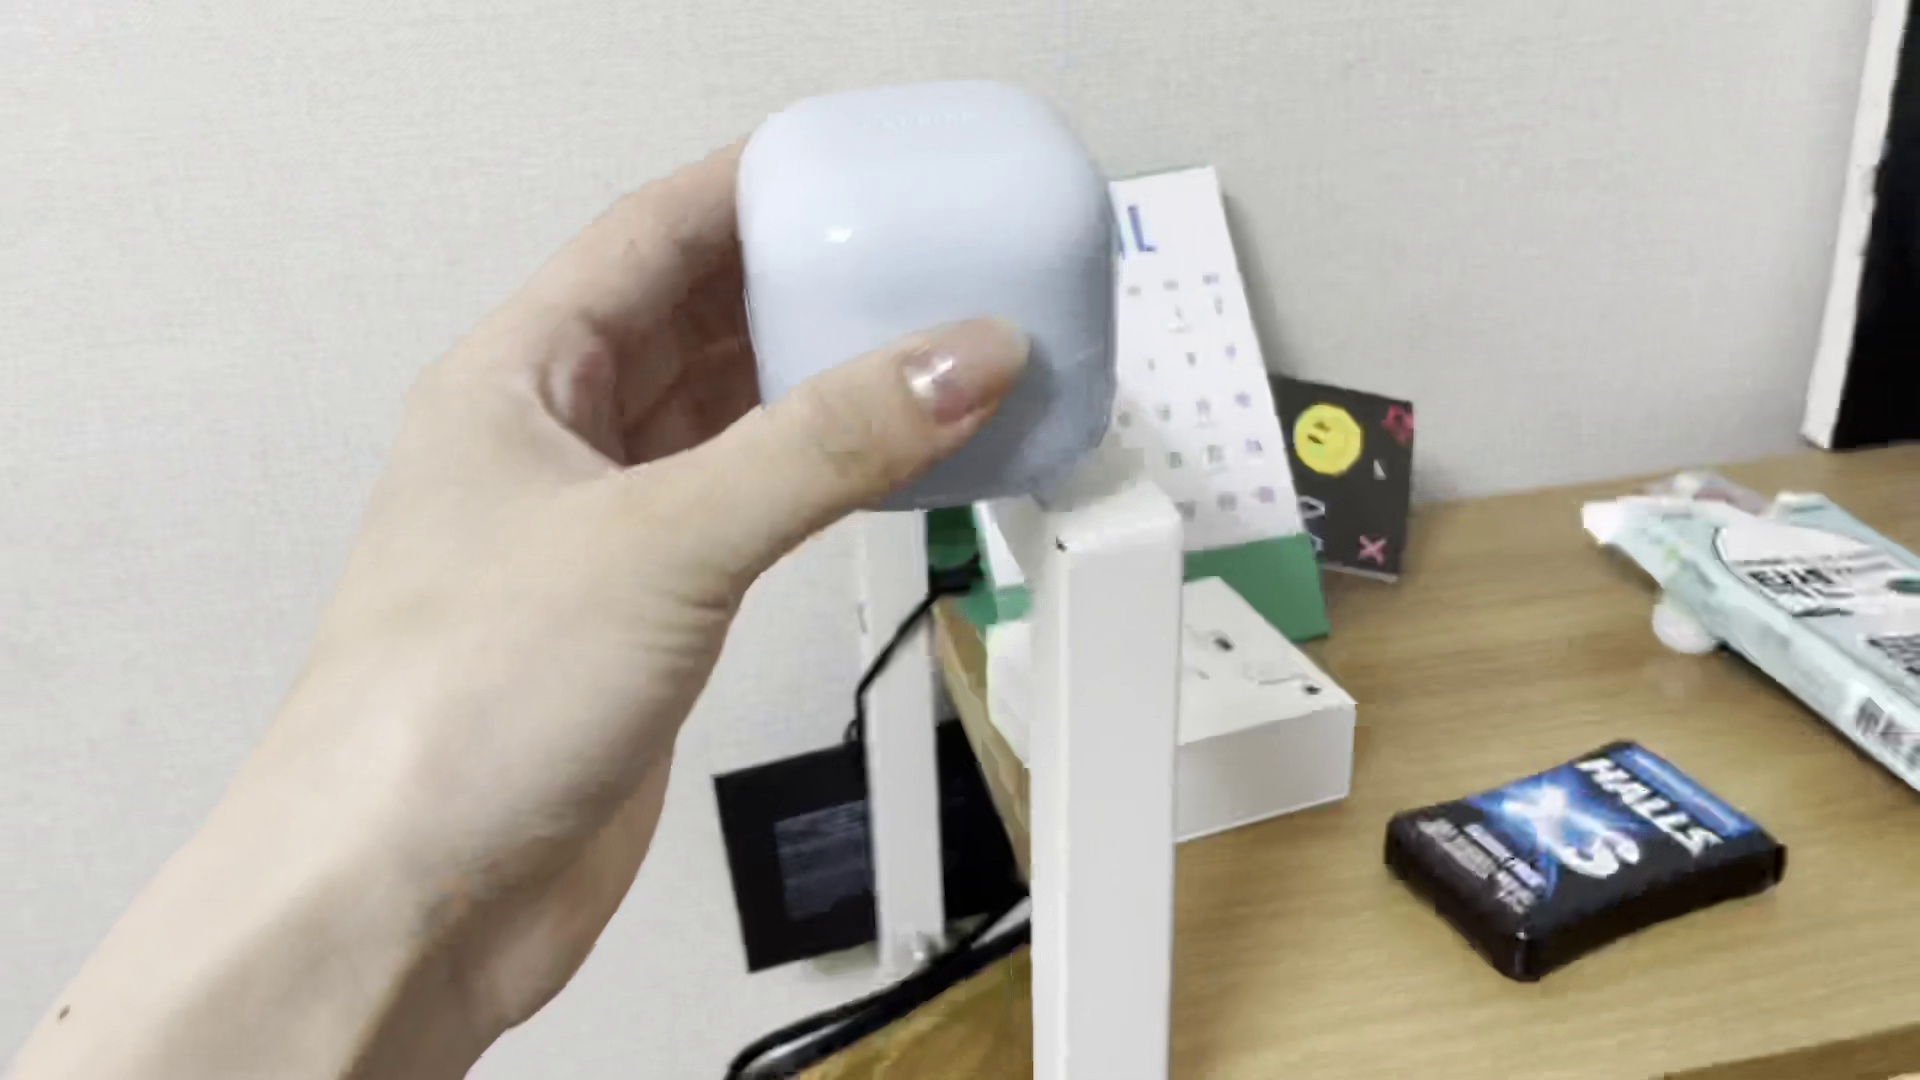cream: (740, 82, 1116, 506)
